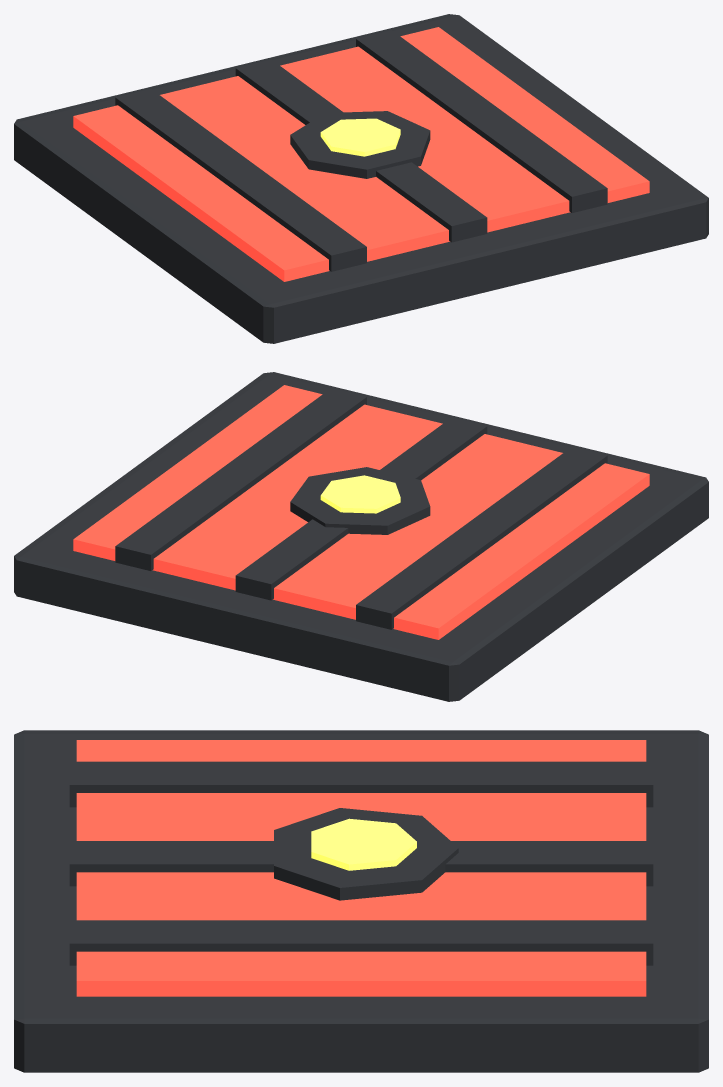
Rendered from hazard-tile-lod1.glb.
3 views of the same model, one above another, from view 1: azimuth 30°, elevation 25°; view 2: azimuth 150°, elevation 25°; view 3: azimuth 270°, elevation 25° (orthographic). The views are drawn at different scales.
Visible parts, largest first — view 1: hazard-tile; view 2: hazard-tile; view 3: hazard-tile.
Part boxes in pixels (<box>): hazard-tile: <box>14,14,708,343</box>; hazard-tile: <box>14,372,708,701</box>; hazard-tile: <box>14,730,708,1072</box>.
Bounding box in the file's own units: 1 × 0.135 × 1.
